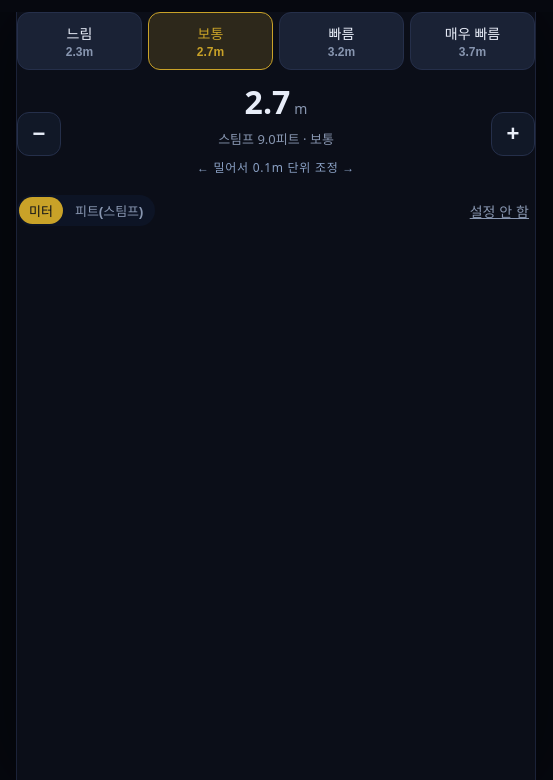
Test: 그린 스피드 — 가운데 숫자를 밀어서 맞추기 › 값이 있으면 미는 단위를 안내한다 (미터 0.1m · 피트 0.5ft)
Expected: the text "← 밀어서 0.1m 단위 조정 →" is shown, [197, 159, 355, 176]
Click the button "피트(스팀프)" at {"x": 109, "y": 211}, box [65, 197, 153, 224]
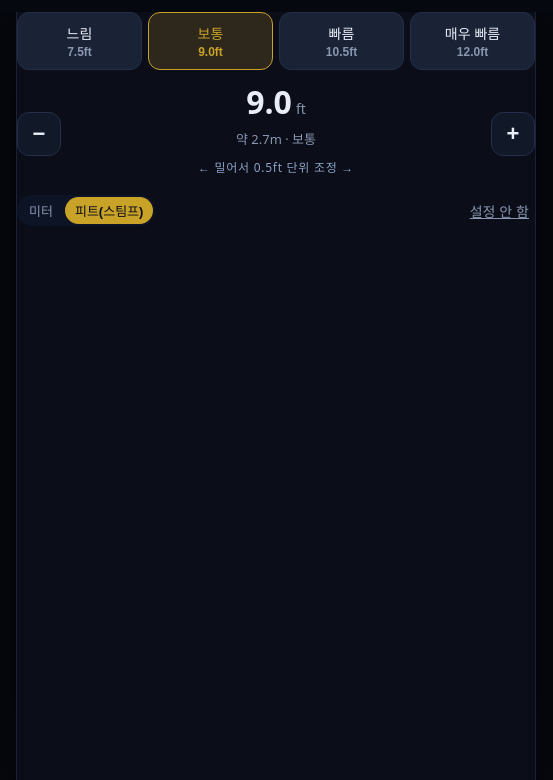
Expected: the text "← 밀어서 0.5ft 단위 조정 →" is shown, [198, 159, 354, 176]
